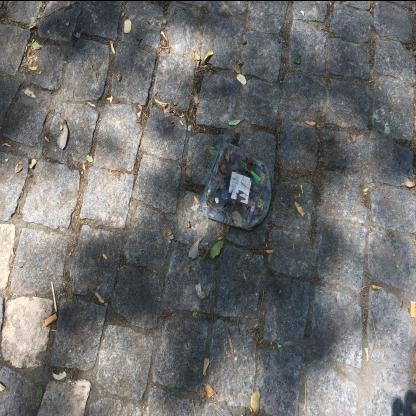plastik: (196, 141, 272, 230)
